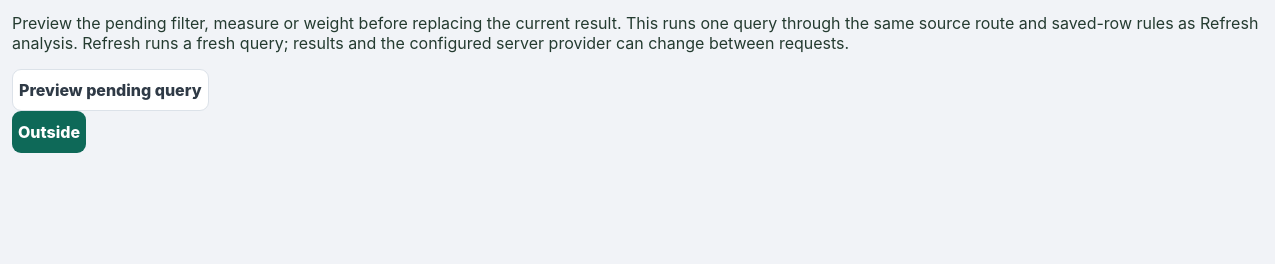
keeps focus inside controls when the cancel control disappears: cancel
Later steps or results of the test are not shown.
Click the button "Preview pending query": (110, 90) [12,69,209,111]
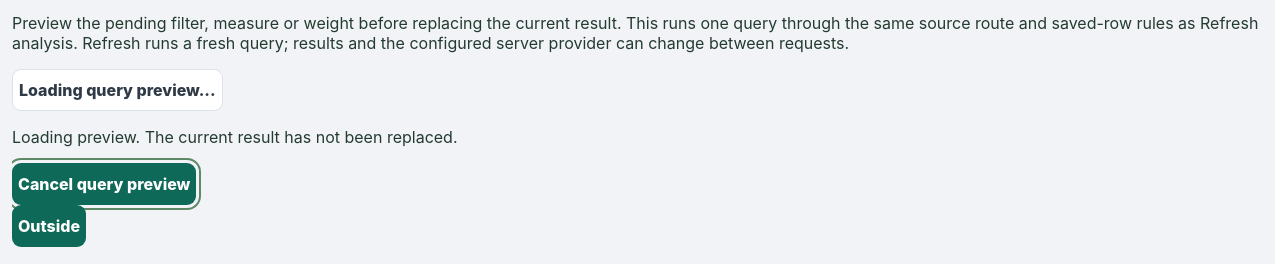
Check: the button "Cancel query preview" is shown, box [12,163,196,205]
